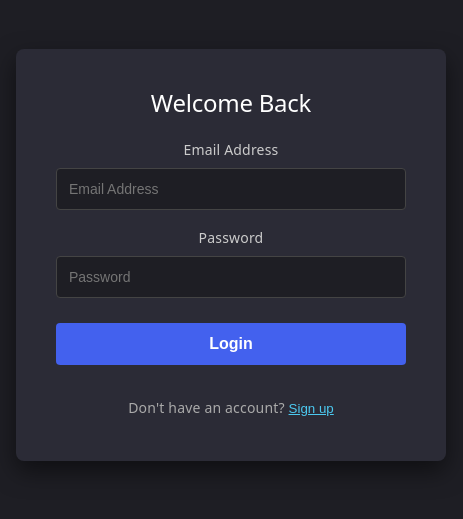
Test: Login Component › handles fetch failure correctly
Type "test@test.com" into the field labelled "Email Address". click: (231, 189)
box: [56,168,406,210]
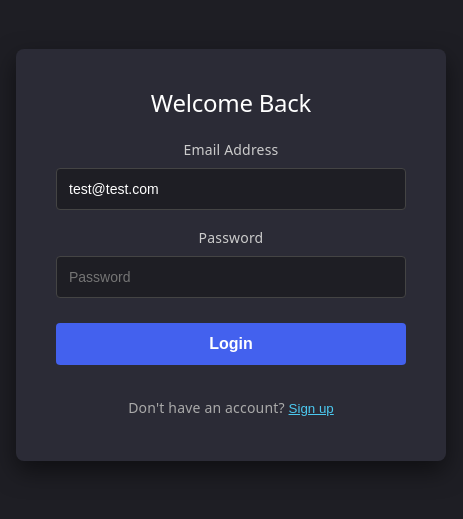
Type "password" into the password field labelled "Password". click: (231, 277)
box: [56,256,406,298]
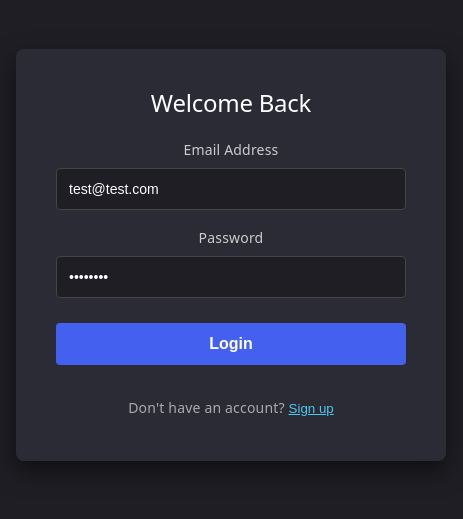
Click the button "Login". click: click(231, 344)
box: [56,323,406,365]
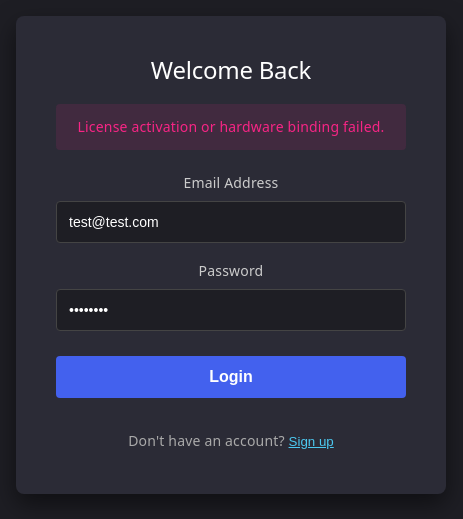
Expected: the text "License activation or hardware binding failed." is shown, [56,104,406,150]
